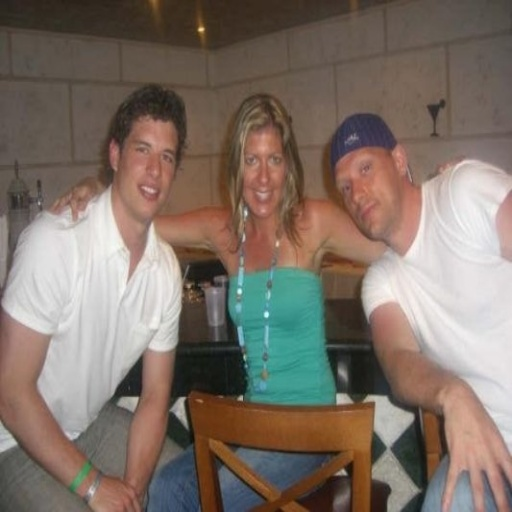hand: (428, 364, 508, 503), (46, 176, 93, 221), (90, 476, 140, 510), (435, 154, 461, 172)
